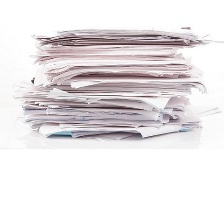book: (6, 19, 224, 144)
